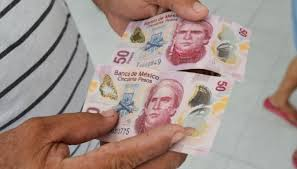billete: (81, 65, 233, 157), (111, 11, 252, 81)
